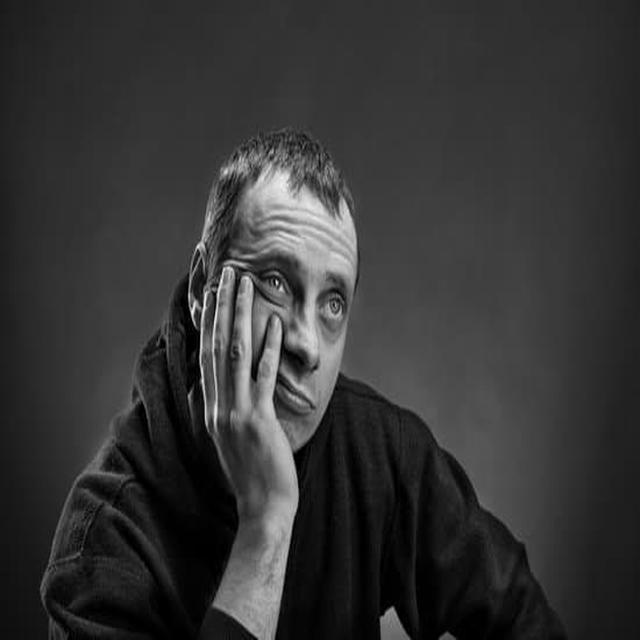Sadness: (234, 190, 354, 454)
